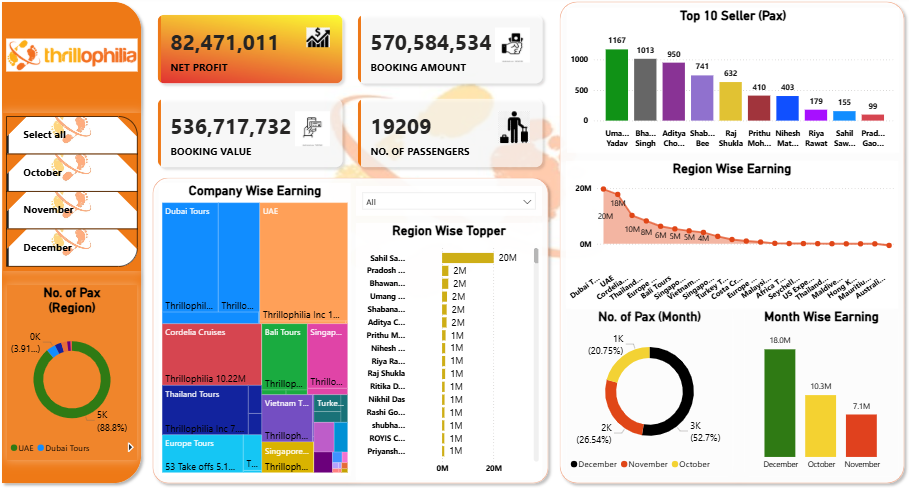

The dashboard page shown, as its layout file describes it:
{"tool":"powerbi","page":{"name":"OND 2","canvas":[1450,800],"ordinal":0},"visuals":[{"type":"shape","box":[889.8,0,560.6,776.4],"z":500},{"type":"shape","box":[11,0,237.8,776.4],"z":1000},{"type":"image","box":[22,52,217.3,81.9],"z":2000},{"type":"textbox","box":[28.3,118.1,204.7,66.1],"z":3000},{"type":"cardVisual","fields":{"Data":["Sum(Query result.Net Profit (INR))","Sum(Query result.Booking Amount (INR))","Sum(Query result.Booking Value (Booking Currency))","Sum(Query result.No. of Passengers)"]},"box":[248.8,12.6,640.9,275.6],"z":4000},{"type":"shape","box":[248.8,277.2,640.9,499.2],"z":5000},{"type":"clusteredBarChart","title":"Region Wise Topper","fields":{"Y":["Sum(Query result.Net Profit (INR))"],"Category":["Query result.Sales Owner"]},"box":[578,357.5,292.9,404.7],"z":6000},{"type":"advancedSlicerVisual","title":"Month Wise","fields":{"Values":["Query result.MonthColumn"]},"box":[22,184.3,217.3,248.8],"z":7000},{"type":"donutChart","title":"No. of Pax (Region)","fields":{"Y":["Sum(Query result.No. of Passengers)"],"Category":["Query result.Booking Region"]},"box":[28.3,455.1,204.7,275.6],"z":8000},{"type":"donutChart","title":"No. of Pax (Month)","fields":{"Category":["Query result.MonthColumn"],"Y":["Sum(Query result.No. of Passengers)"]},"box":[910.2,492.9,259.8,263],"z":9000},{"type":"slicer","title":"Region","fields":{"Values":["Query result.Booking Region"]},"box":[578,299.2,292.9,47.2],"z":10000},{"type":"clusteredColumnChart","title":"Top 10 Seller (Pax)","fields":{"Y":["Sum(Query result.No. of Passengers)"],"Category":["Query result.Sales Owner"]},"box":[910.2,18.9,522.8,228.3],"z":11000},{"type":"stackedAreaChart","title":"Region Wise Earning","fields":{"Category":["Query result.Booking Region"],"Y":["Sum(Query result.Net Profit (INR))"]},"box":[908.7,259.8,522.8,233.1],"z":12000},{"type":"clusteredColumnChart","title":"Month Wise Earning","fields":{"Y":["Sum(Query result.Net Profit (INR))"],"Category":["Query result.MonthColumn"]},"box":[1190.6,492.9,240.9,263],"z":13000},{"type":"treemap","title":"Company Wise Earning","fields":{"Group":["Query result.Booking Region"],"Values":["Sum(Query result.Net Profit (INR))"],"Details":["Query result.Booking Owner"]},"box":[267.7,294.5,302.4,461.4],"z":14000}]}

Visuals, with their boxes in screenshot pixels (x1, y1, x2, y2), scaled from the page's 1450x800 canvas onto the 909x488 screenshot:
shape: [left=558, top=0, right=908, bottom=474]
shape: [left=7, top=0, right=156, bottom=474]
image: [left=14, top=32, right=150, bottom=82]
textbox: [left=18, top=72, right=146, bottom=112]
cardVisual - Sum(Query result.Net Profit (INR)) x Sum(Query result.Booking Amount (INR)): [left=156, top=8, right=558, bottom=176]
shape: [left=156, top=169, right=558, bottom=474]
"Region Wise Topper" clusteredBarChart: [left=362, top=218, right=546, bottom=465]
"Month Wise" advancedSlicerVisual: [left=14, top=112, right=150, bottom=264]
"No. of Pax (Region)" donutChart: [left=18, top=278, right=146, bottom=446]
"No. of Pax (Month)" donutChart: [left=571, top=301, right=733, bottom=461]
"Region" slicer: [left=362, top=183, right=546, bottom=211]
"Top 10 Seller (Pax)" clusteredColumnChart: [left=571, top=12, right=898, bottom=151]
"Region Wise Earning" stackedAreaChart: [left=570, top=158, right=897, bottom=301]
"Month Wise Earning" clusteredColumnChart: [left=746, top=301, right=897, bottom=461]
"Company Wise Earning" treemap: [left=168, top=180, right=357, bottom=461]
